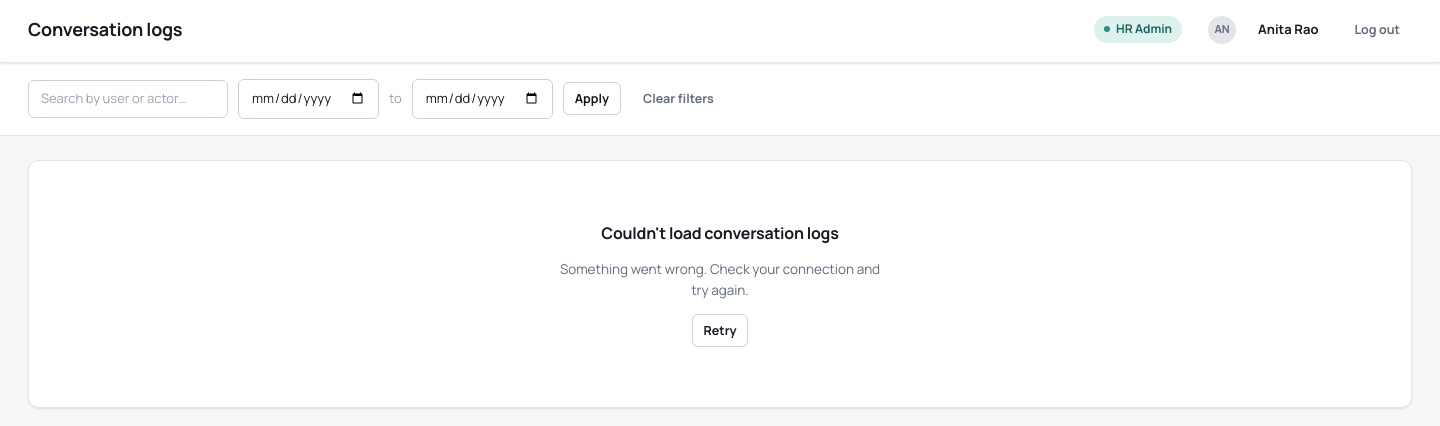
Conversation Logs page (slice-11) › renders the error state and retries on failure
Expected: the heading "Couldn't load conversation logs" is shown, [601,221,839,245]
Click the button "Retry".
click(720, 331)  # box [692,314,748,347]
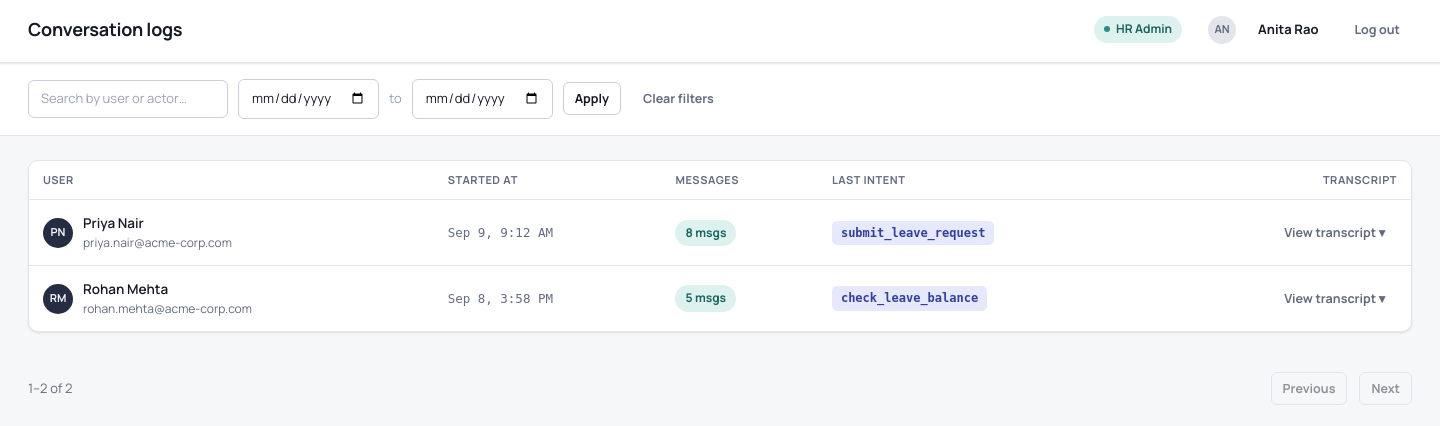
Expected: the text "Priya Nair" is shown, [83,214,144,232]
